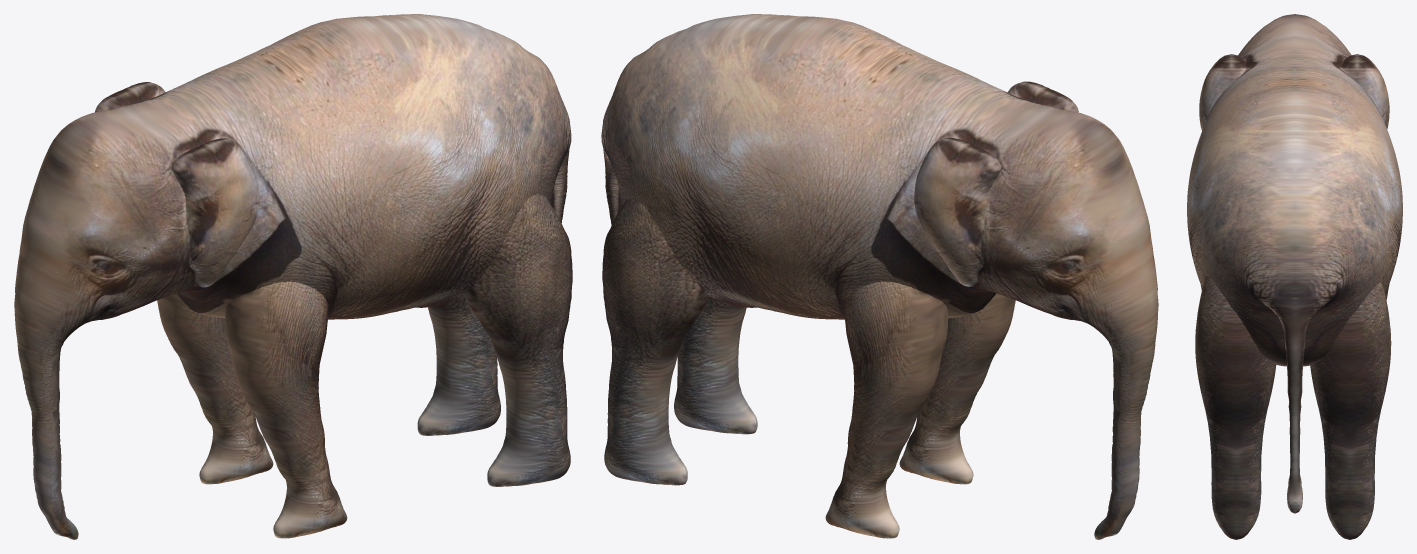
The model's file is bornean-elephant.glb.
The picture shows the model from 3 angles, left to right: view 1: azimuth 30°, elevation 25°; view 2: azimuth 150°, elevation 25°; view 3: azimuth 270°, elevation 25°; orthographic projection. The views are drawn at different scales.
Visible parts, largest first — view 1: mm_frame (18); view 2: mm_frame (18); view 3: mm_frame (18).
Part boxes in pixels (left/top/right/bottom): mm_frame (18): left=14, top=14, right=572, bottom=539; mm_frame (18): left=601, top=14, right=1158, bottom=539; mm_frame (18): left=1187, top=14, right=1402, bottom=539.
Bounding box in the file's own units: 8.5 × 6.92 × 3.57.
Materials: 1 (1 with a texture image).
